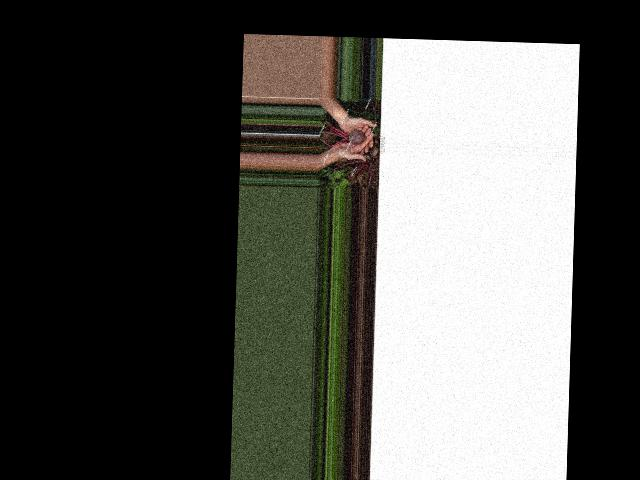beet: (320, 119, 366, 149)
